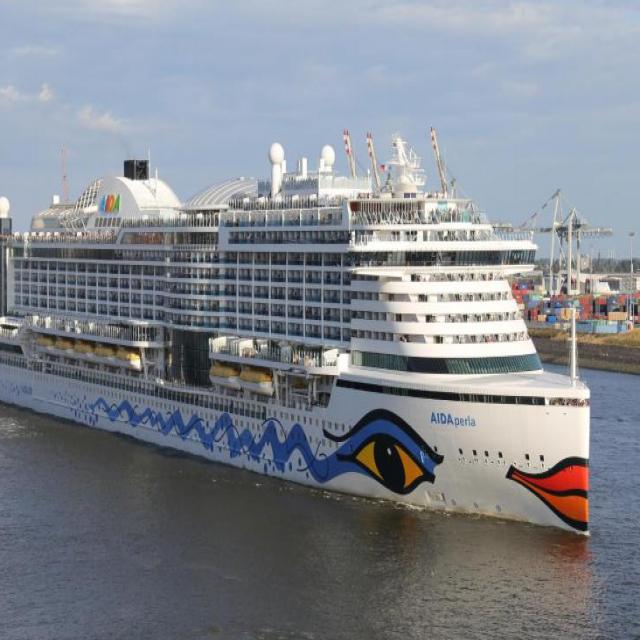cruises: (1, 132, 595, 549)
